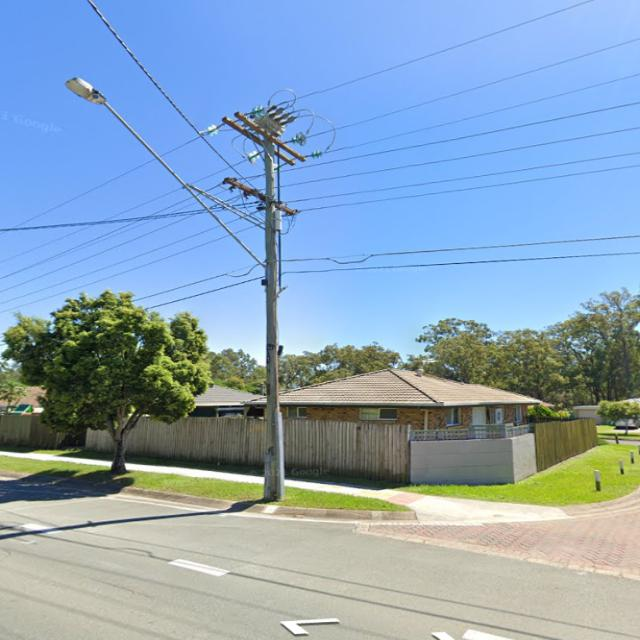HV-switch: (248, 104, 299, 138)
HV-transmission: (199, 105, 325, 166)
crossarm: (233, 111, 307, 162), (221, 116, 296, 166), (222, 176, 298, 218)
streetlight: (64, 76, 268, 271)
timber-pole: (262, 137, 286, 502)
